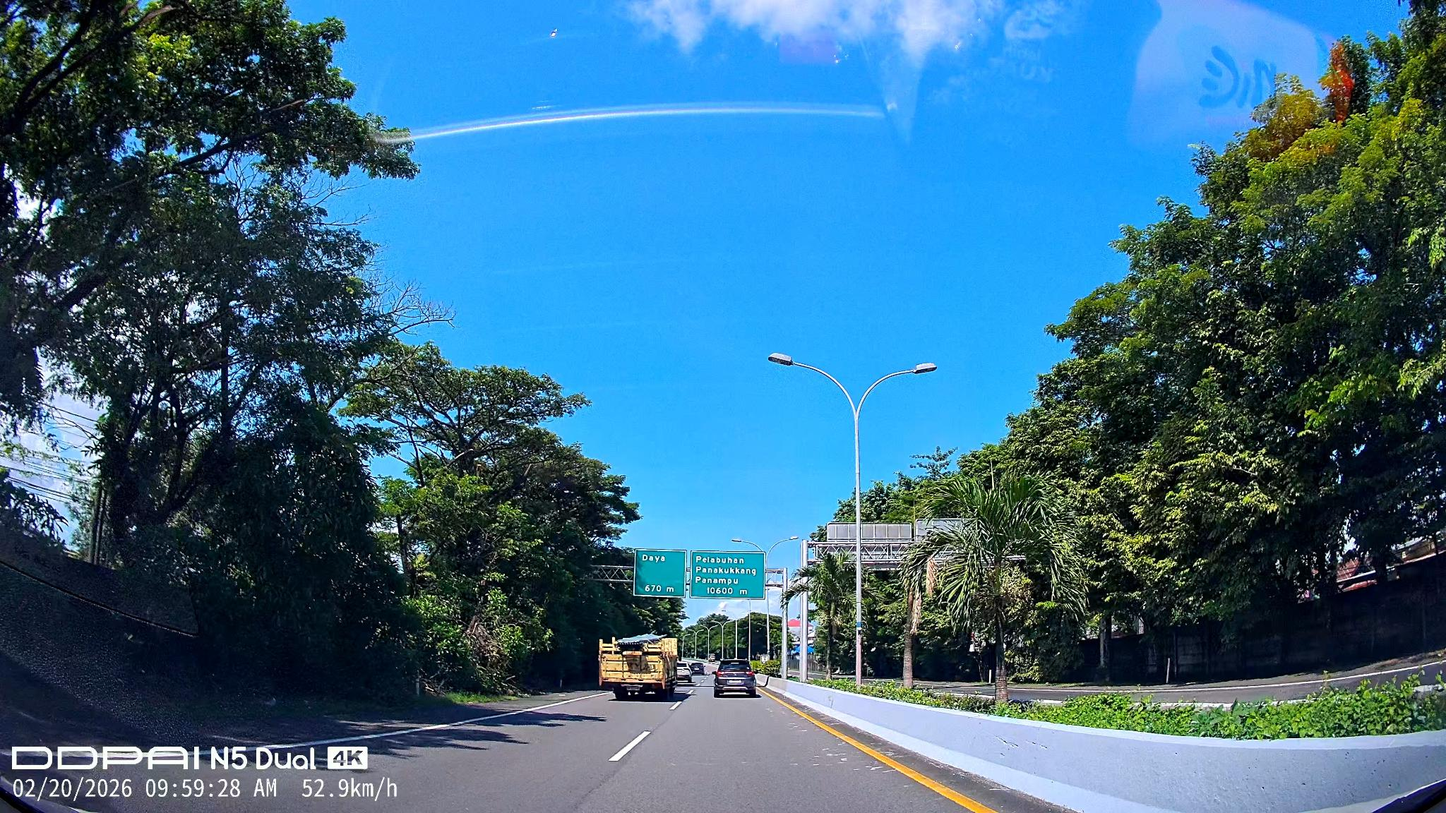rambu_teks: (691, 549, 766, 600), (632, 548, 687, 599)
